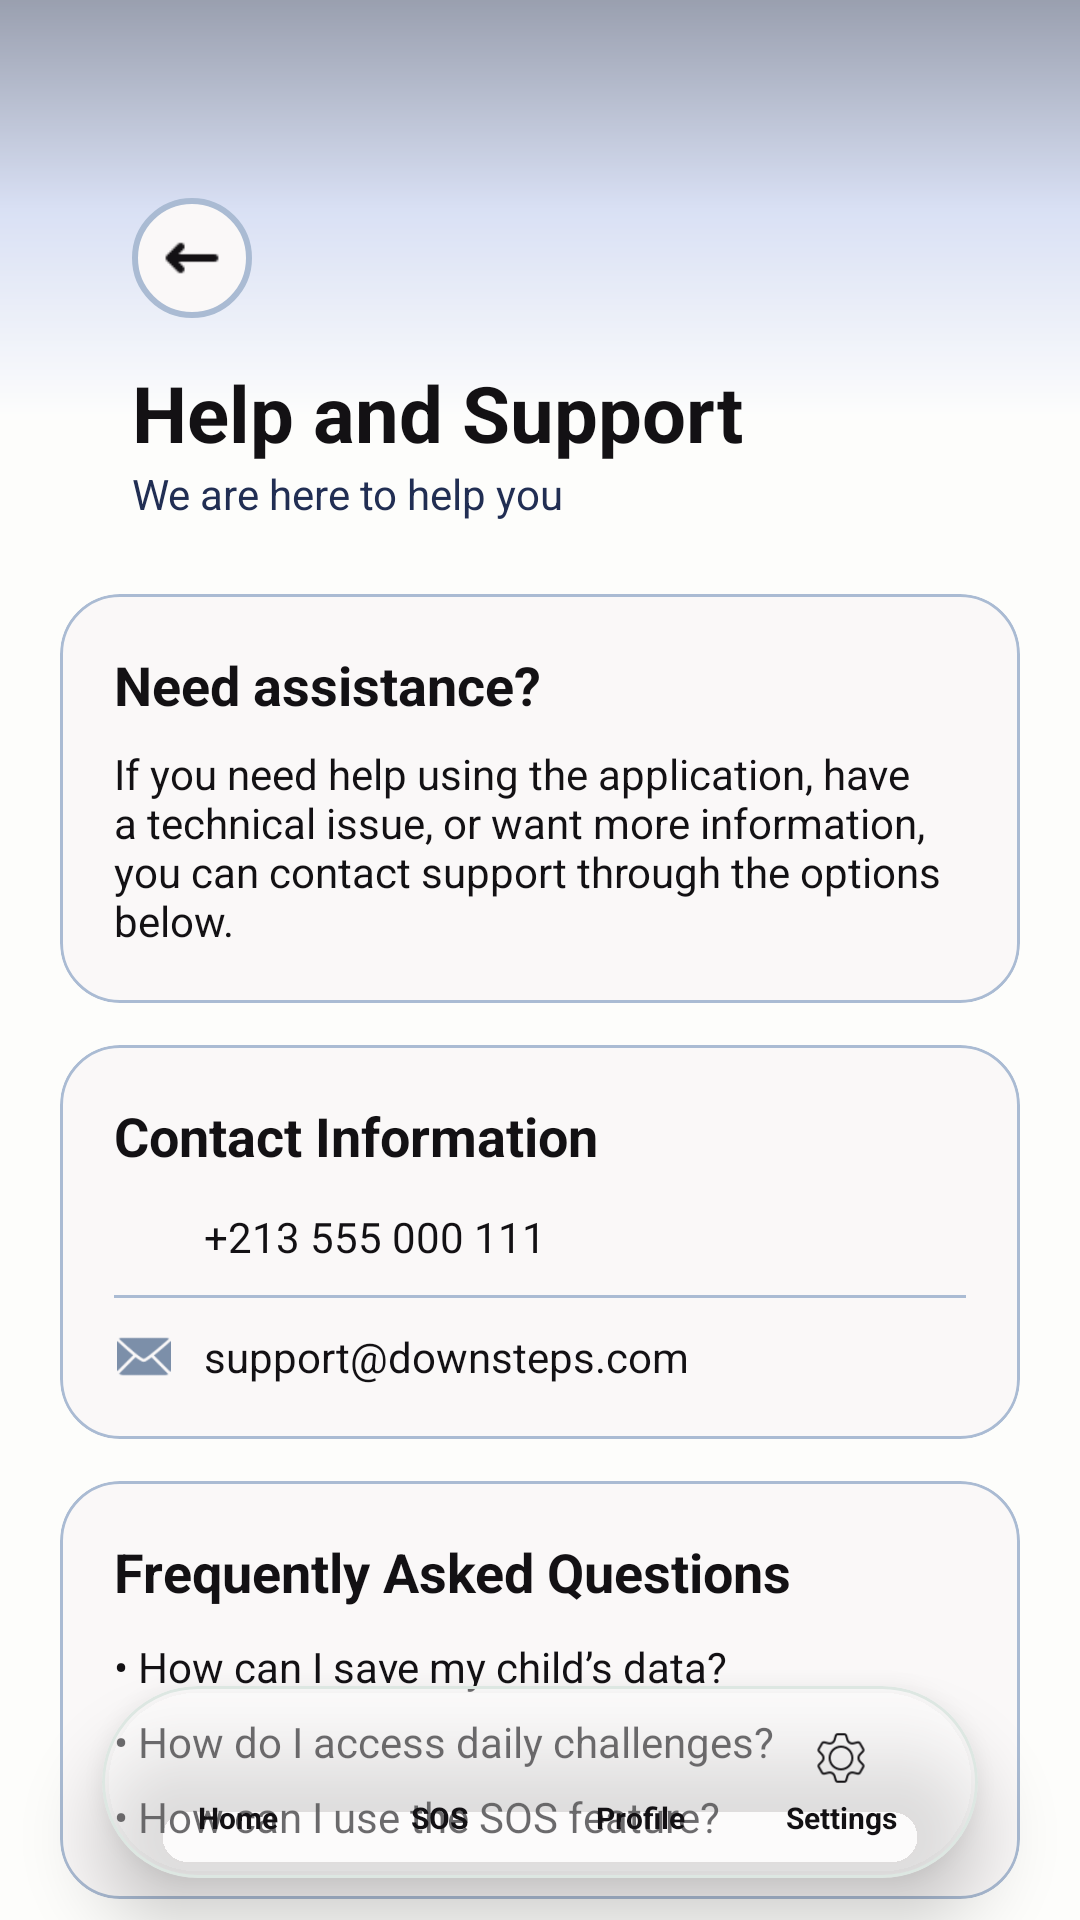

Screen size 1080px x 1920px. Icon name, then its box in pixels as (x1, y1, x2, y2):
email: (117, 1337, 171, 1376)
